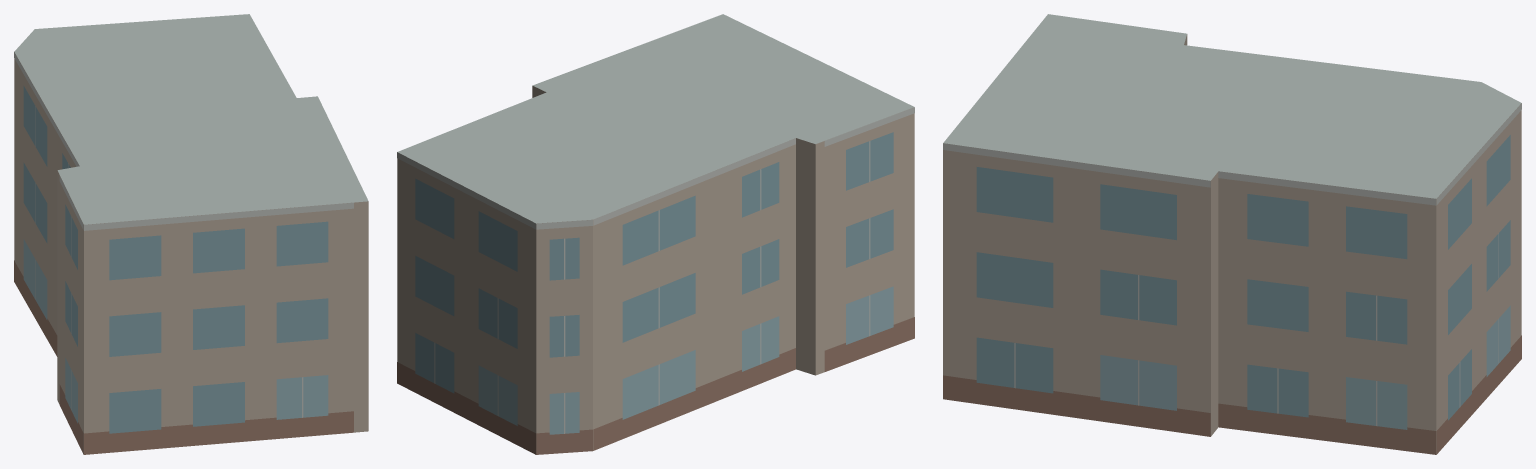
File: survey-upis-32970290.glb
The picture shows the model from 3 angles, left to right: view 1: azimuth 30°, elevation 25°; view 2: azimuth 150°, elevation 25°; view 3: azimuth 270°, elevation 25°; orthographic projection. The views are drawn at different scales.
Visible parts, largest first — view 1: survey-upis-32970290.tmp; view 2: survey-upis-32970290.tmp; view 3: survey-upis-32970290.tmp.
Boxes of the visible parts, left/top/right/bottom form: survey-upis-32970290.tmp: left=14, top=14, right=368, bottom=454; survey-upis-32970290.tmp: left=397, top=14, right=914, bottom=454; survey-upis-32970290.tmp: left=943, top=14, right=1521, bottom=454.
Size of the model in its own units: 14.17 by 9.15 by 18.75.
